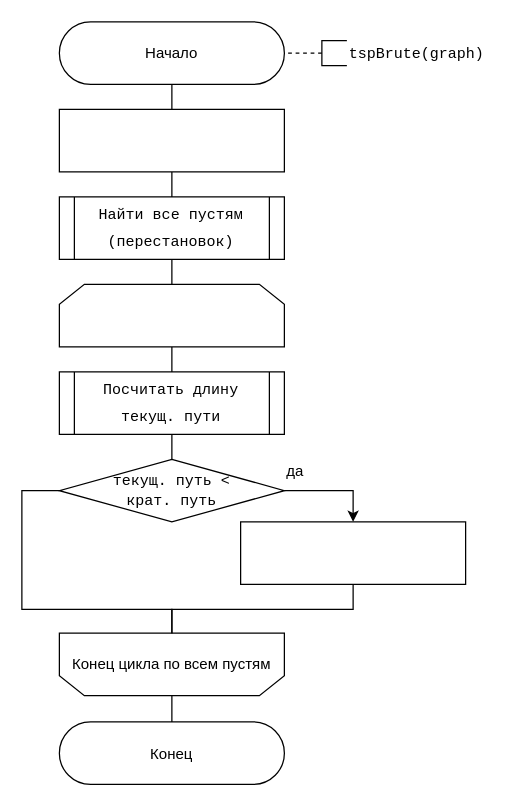
This 519x806 diagram has some shape labels left out. Each missing label, with the centre of its shape:
"Инициализация параметров" goes at point (171, 140).
"крат. путь = текущ. путь" goes at point (352, 552).
"Цикл по всем пустям" goes at point (171, 315).
